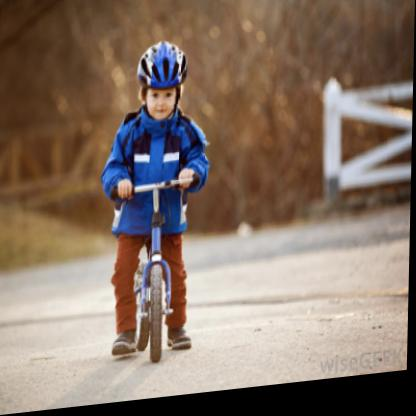With Helmet: (131, 35, 204, 131)
